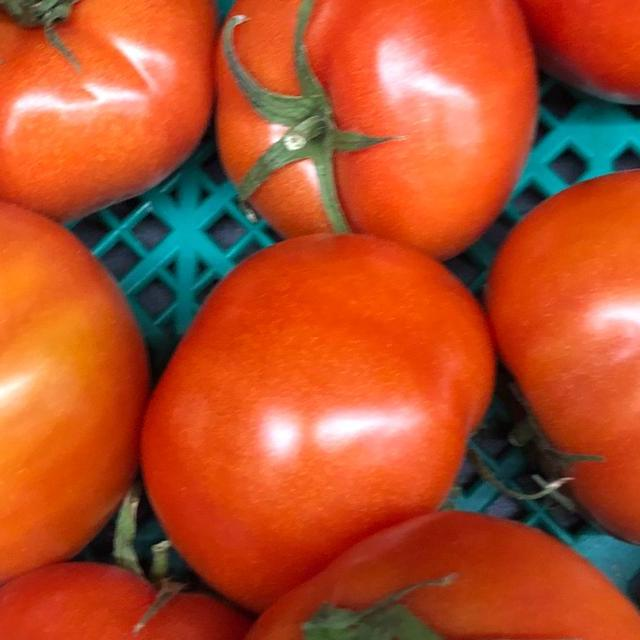tomato: (115, 180, 505, 595), (182, 0, 537, 262), (0, 157, 162, 592), (477, 145, 640, 542), (195, 510, 640, 640), (0, 0, 217, 215)
